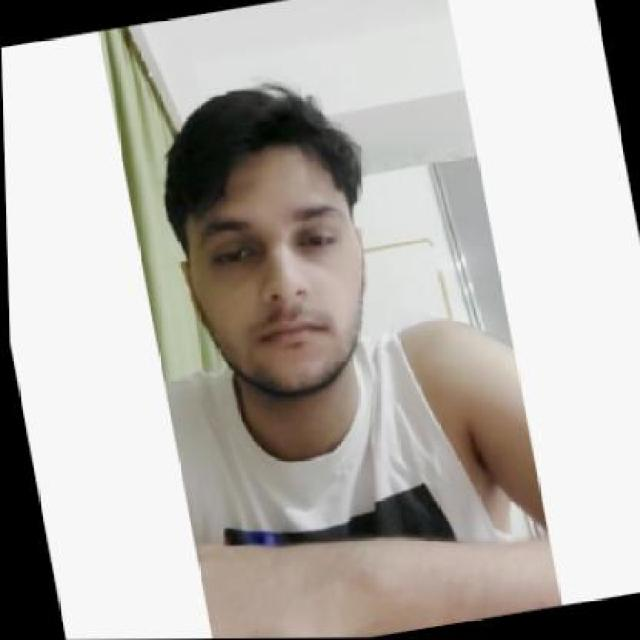inattentif: (143, 66, 399, 414)
